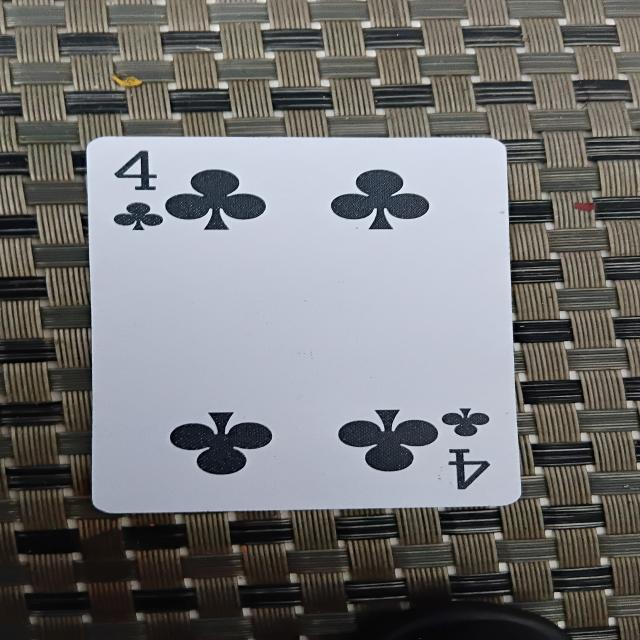4C: (81, 131, 527, 514)
